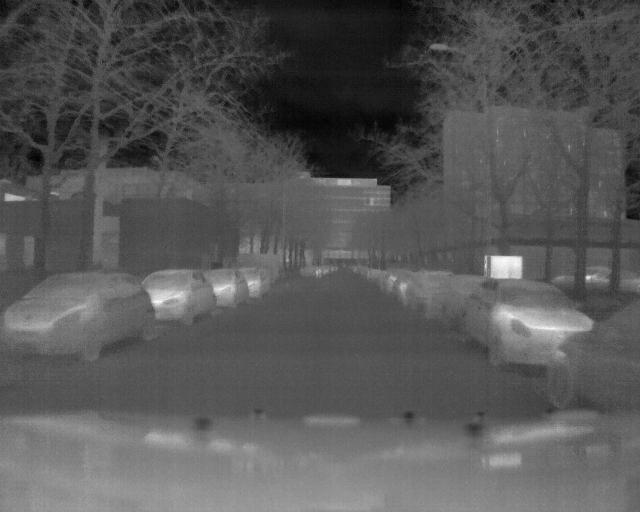car: (3, 270, 158, 363), (459, 277, 576, 367), (547, 301, 640, 410), (143, 267, 217, 327), (203, 266, 251, 311)
